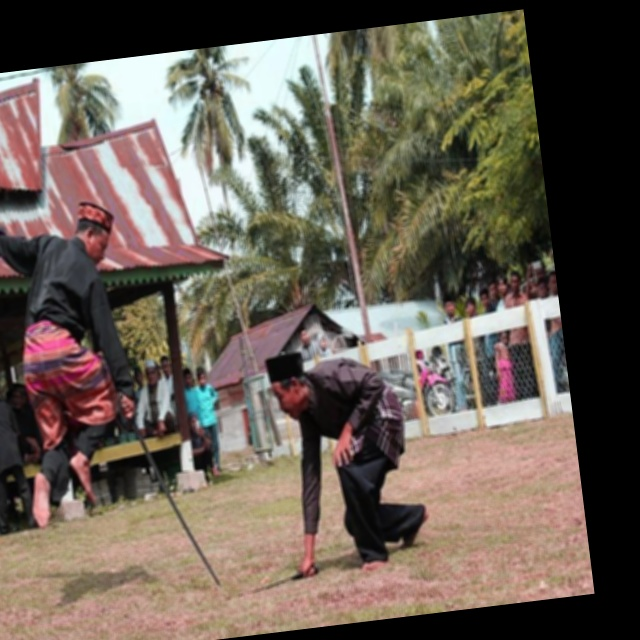Sharp-Object: (116, 380, 225, 601)
